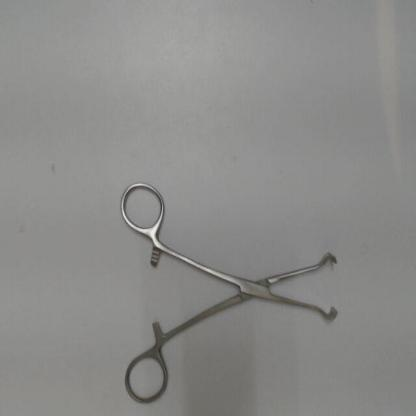Babcock Tissue Forceps: (118, 176, 343, 411)
